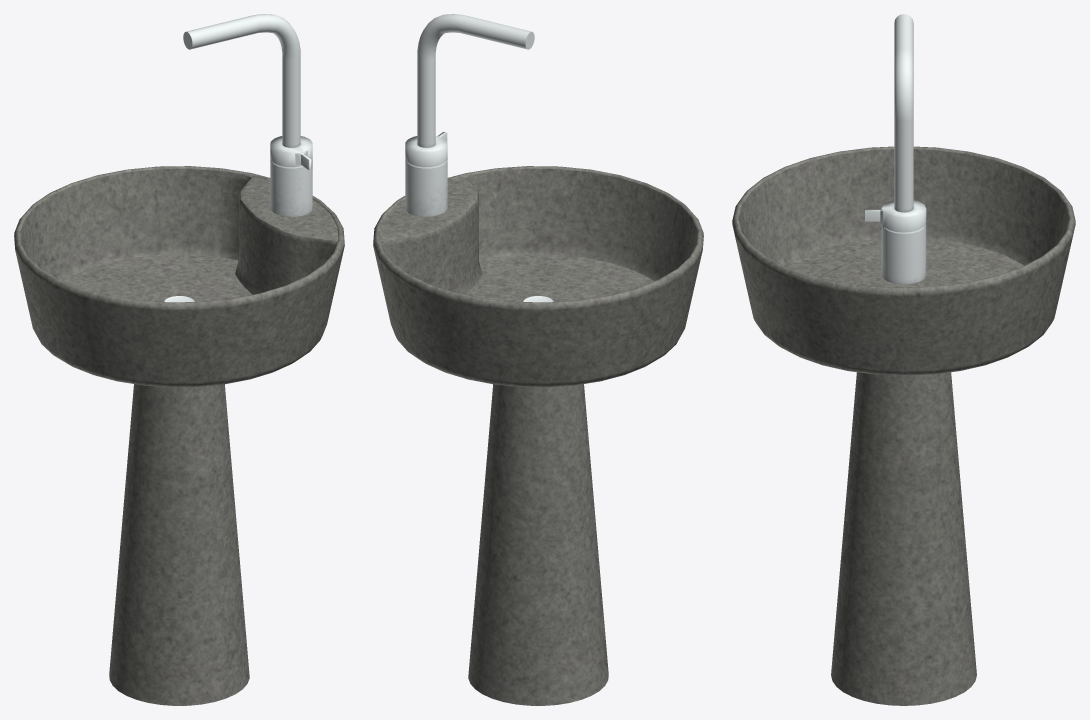
Rendered from SM_WashBase.fbx.
The picture shows the model from 3 angles, left to right: view 1: azimuth 30°, elevation 25°; view 2: azimuth 150°, elevation 25°; view 3: azimuth 270°, elevation 25°; orthographic projection. The views are drawn at different scales.
Parts seen in each view (by area): view 1: SM_WashBase_LOD0; view 2: SM_WashBase_LOD0; view 3: SM_WashBase_LOD0.
Part boxes in pixels (x1,y1,x2,y2): SM_WashBase_LOD0: [14, 14, 344, 705]; SM_WashBase_LOD0: [373, 14, 703, 705]; SM_WashBase_LOD0: [732, 14, 1075, 705].
Bounding box in the file's own units: 74.83 × 74.83 × 160.
Materials: 1 (1 with a texture image).
